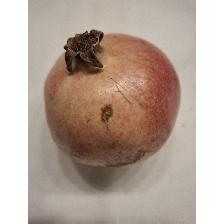Granatapfel: (42, 25, 182, 171)
